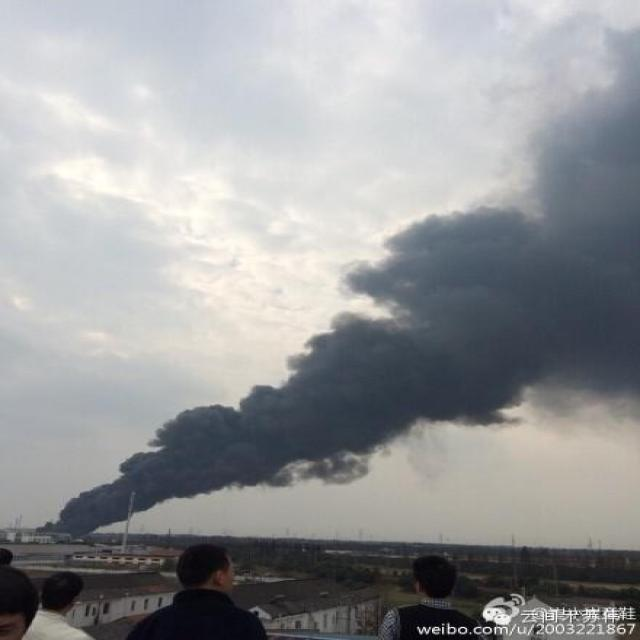Smoke: (30, 22, 640, 537)
